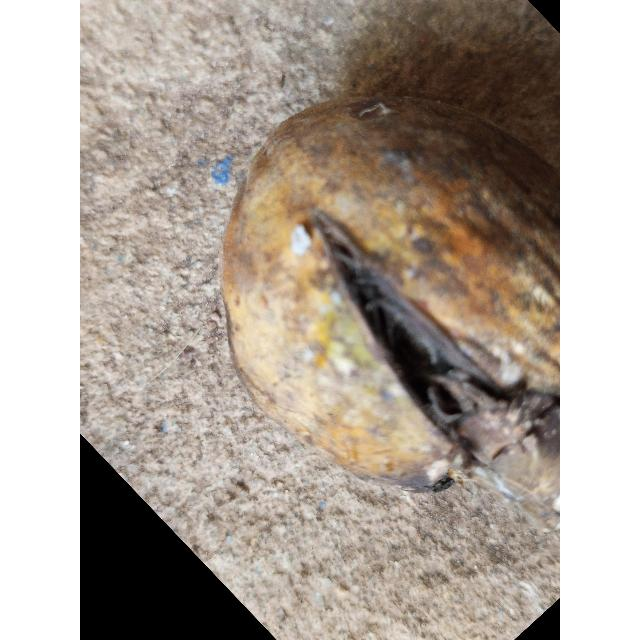damaged: (221, 96, 560, 499)
